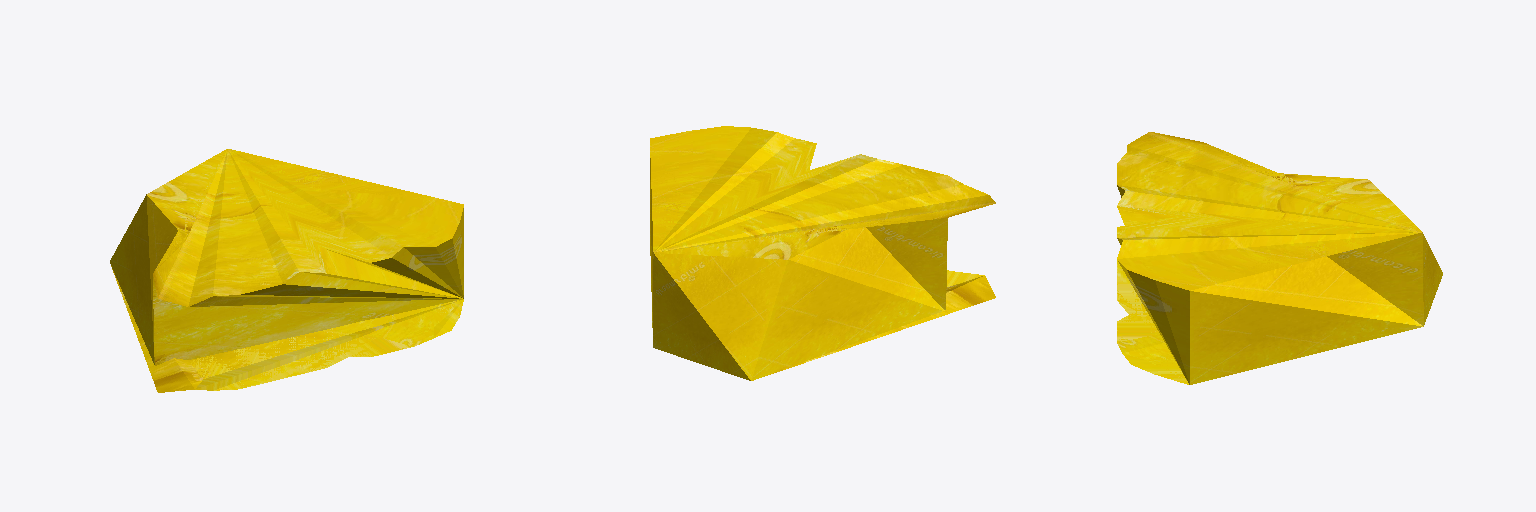
The picture shows the model from 3 angles: view 1: azimuth 30°, elevation 25°; view 2: azimuth 150°, elevation 25°; view 3: azimuth 270°, elevation 25°; orthographic projection.
Parts seen in each view (by area): view 1: Cube_Cube.006; view 2: Cube_Cube.006; view 3: Cube_Cube.006.
Part boxes in pixels (bbox=[...]): Cube_Cube.006: bbox=[110, 149, 463, 392]; Cube_Cube.006: bbox=[650, 126, 995, 380]; Cube_Cube.006: bbox=[1117, 132, 1442, 384].
Bounding box in the file's own units: 0.0815 × 0.0237 × 0.0706.
1 materials, 1 textured.